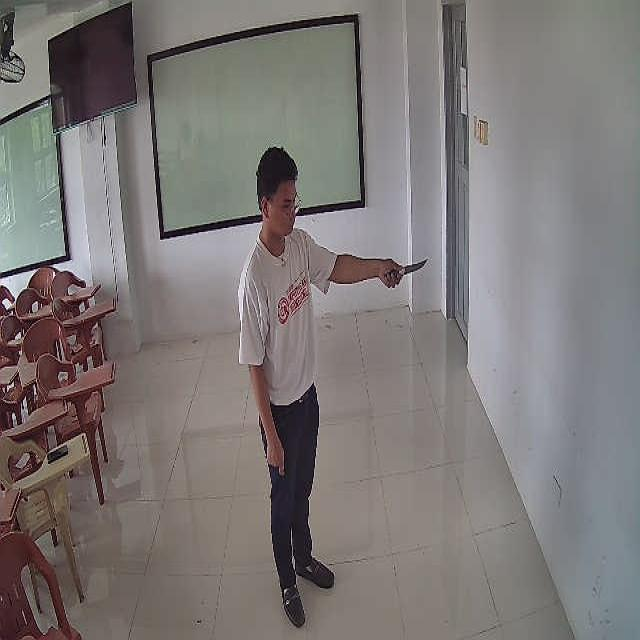knife: (384, 257, 429, 279)
